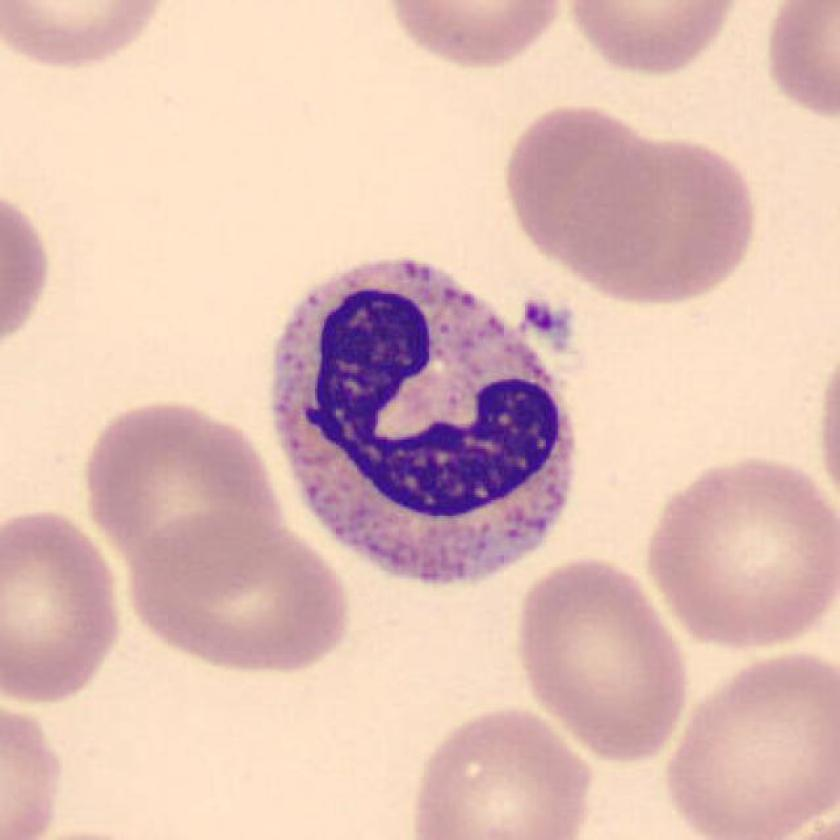neutrophil: (274, 261, 580, 580)
